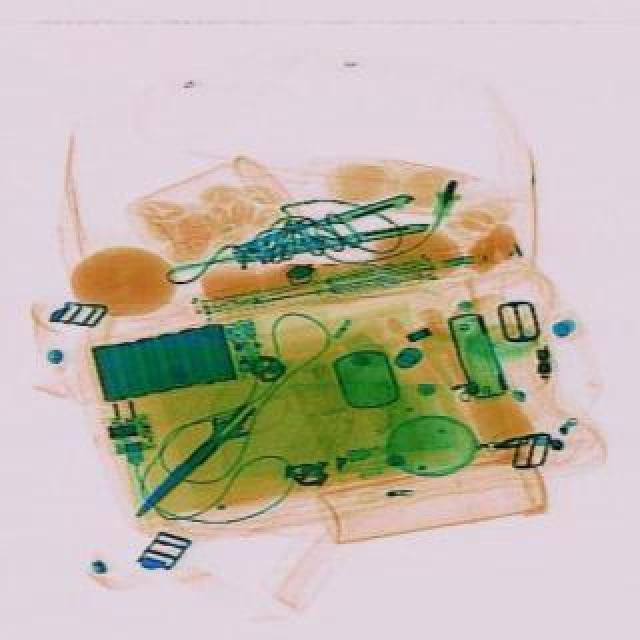knife: (120, 392, 262, 526)
